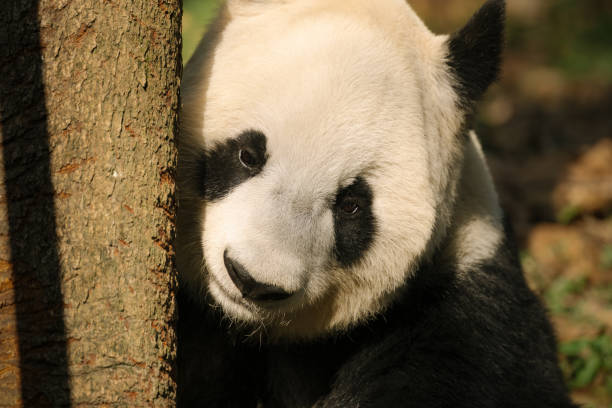panda: (181, 5, 537, 364)
